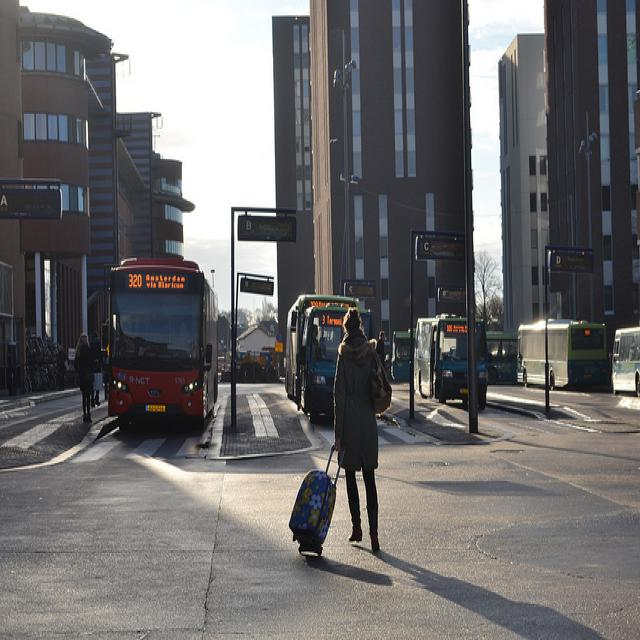Vehicle: (108, 257, 220, 437), (301, 304, 371, 424), (285, 294, 359, 406), (516, 319, 608, 390), (415, 314, 468, 404), (608, 326, 640, 399), (486, 332, 518, 384), (391, 328, 416, 383)
